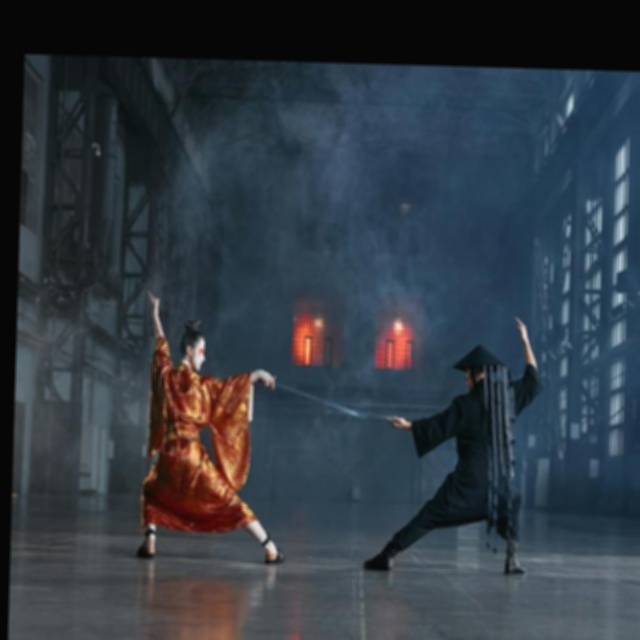Sharp-Object: (255, 369, 367, 420)
